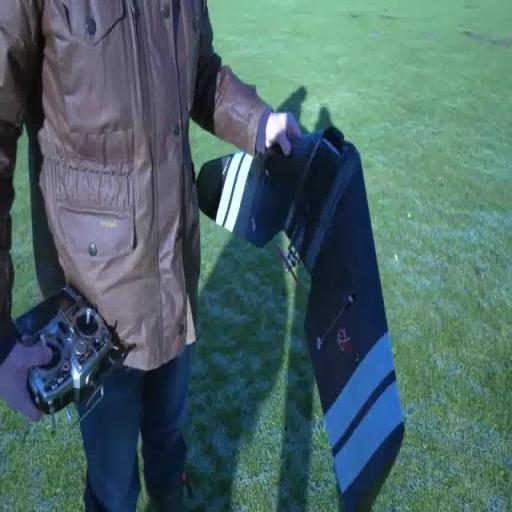uav: (192, 122, 408, 512)
